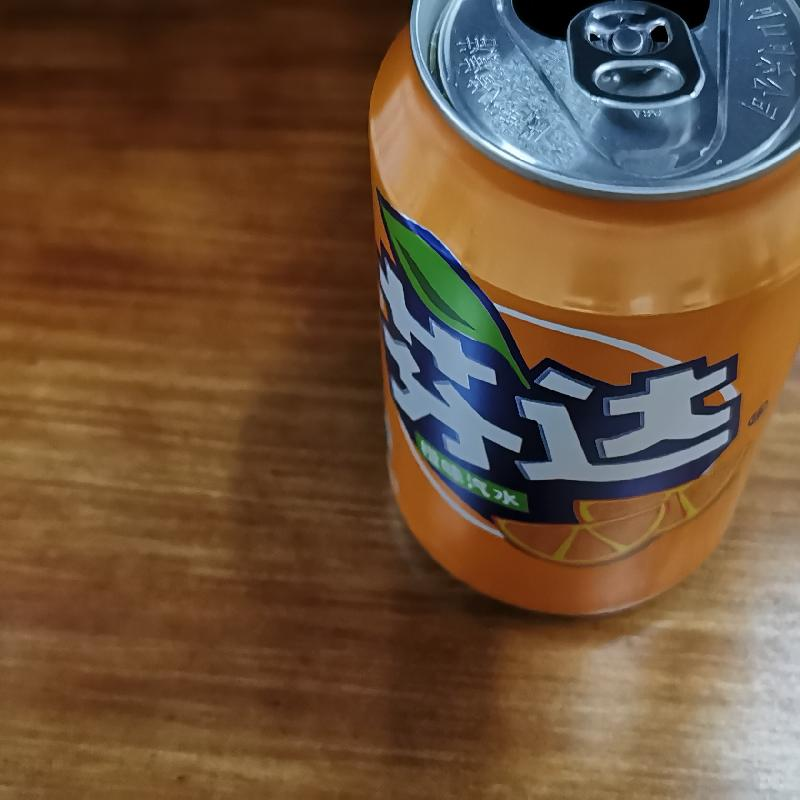cans: (362, 1, 800, 621)
